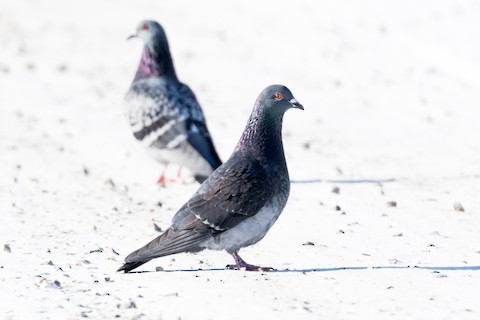pigeon: (112, 82, 320, 282), (117, 15, 239, 200)
